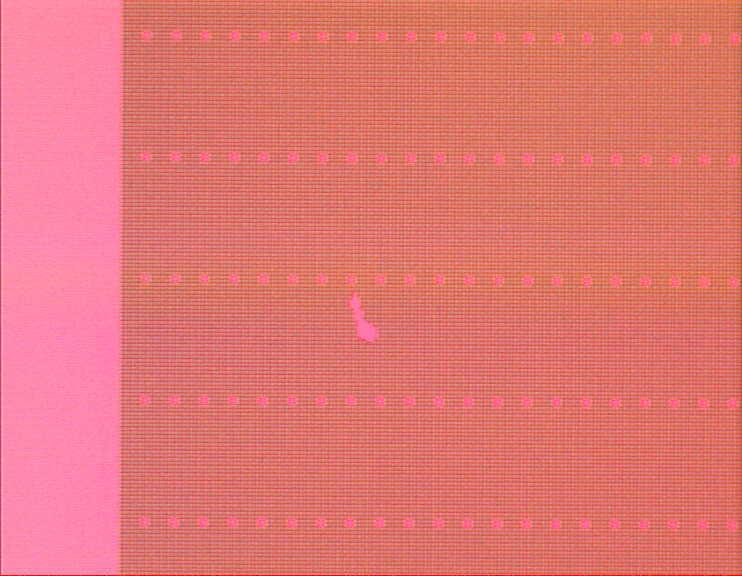BLOCK ETCH: (336, 278, 393, 353)
